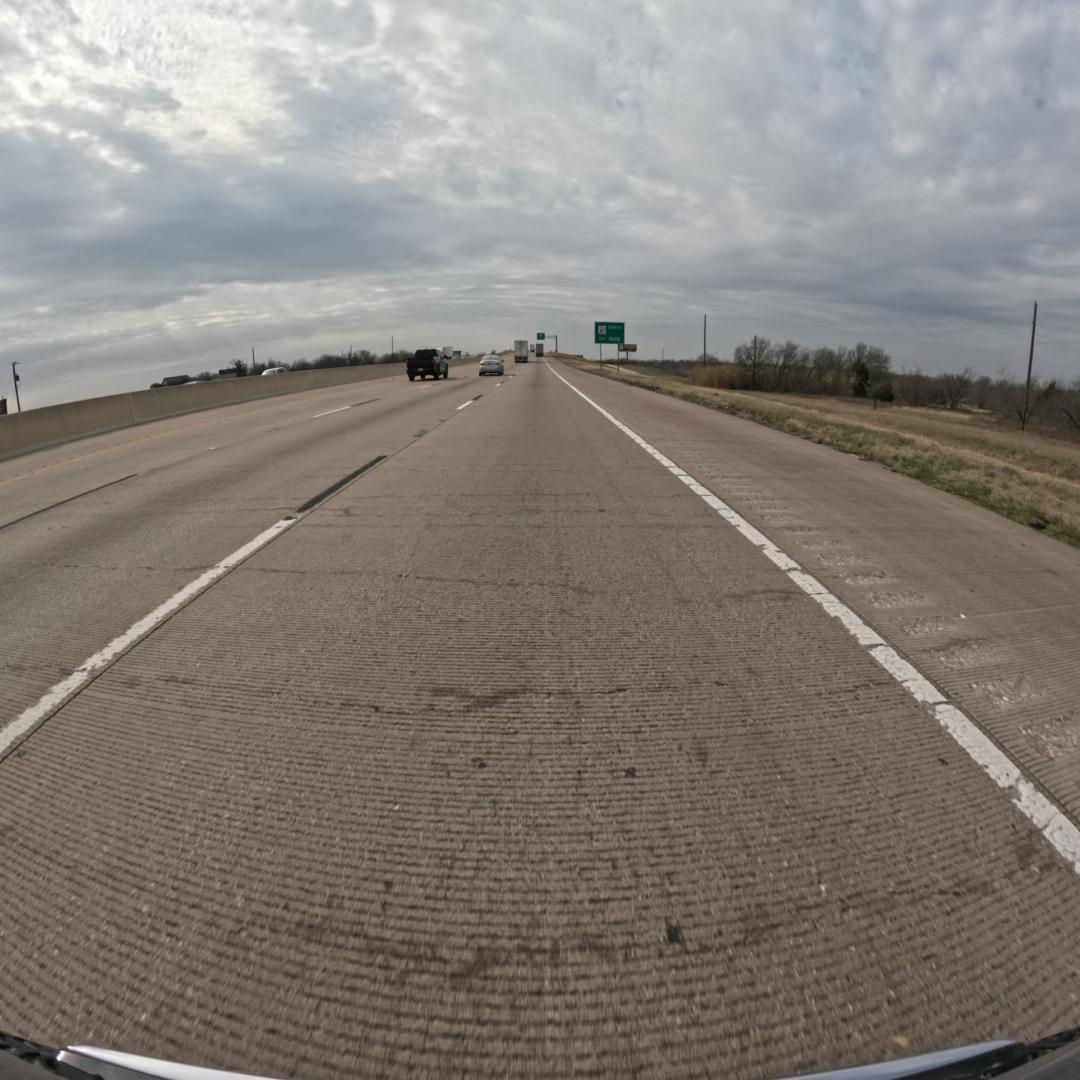lane0: (0, 367, 1080, 1077)
lane1: (0, 377, 494, 758)
